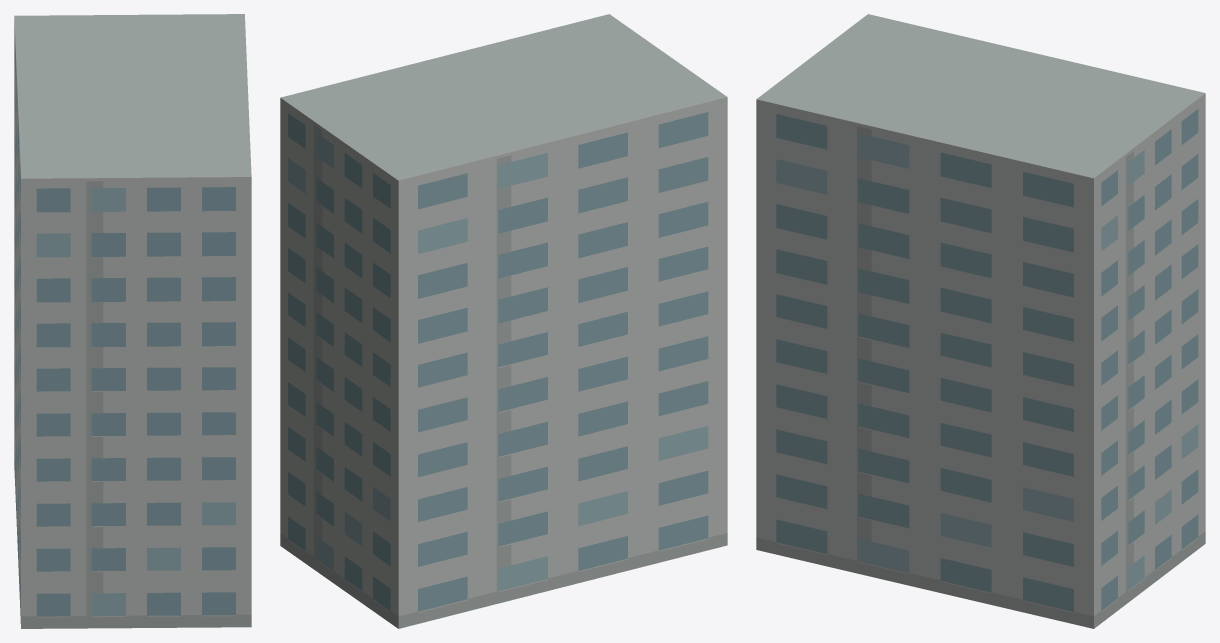
File: residential-b7ec3766-135d-4300-877f-c2b742a8ab59.glb
The picture shows the model from 3 angles, left to right: view 1: azimuth 30°, elevation 25°; view 2: azimuth 150°, elevation 25°; view 3: azimuth 270°, elevation 25°; orthographic projection.
Parts seen in each view (by area): view 1: residential-b7ec3766-135d-4300-877f-c2b742a8ab59.tmp; view 2: residential-b7ec3766-135d-4300-877f-c2b742a8ab59.tmp; view 3: residential-b7ec3766-135d-4300-877f-c2b742a8ab59.tmp.
Part boxes in pixels (x1=…): residential-b7ec3766-135d-4300-877f-c2b742a8ab59.tmp: x1=14, y1=14, x2=251, y2=628; residential-b7ec3766-135d-4300-877f-c2b742a8ab59.tmp: x1=280, y1=14, x2=727, y2=628; residential-b7ec3766-135d-4300-877f-c2b742a8ab59.tmp: x1=756, y1=14, x2=1205, y2=628.
Bounding box in the file's own units: 27.39 × 35 × 31.65.
